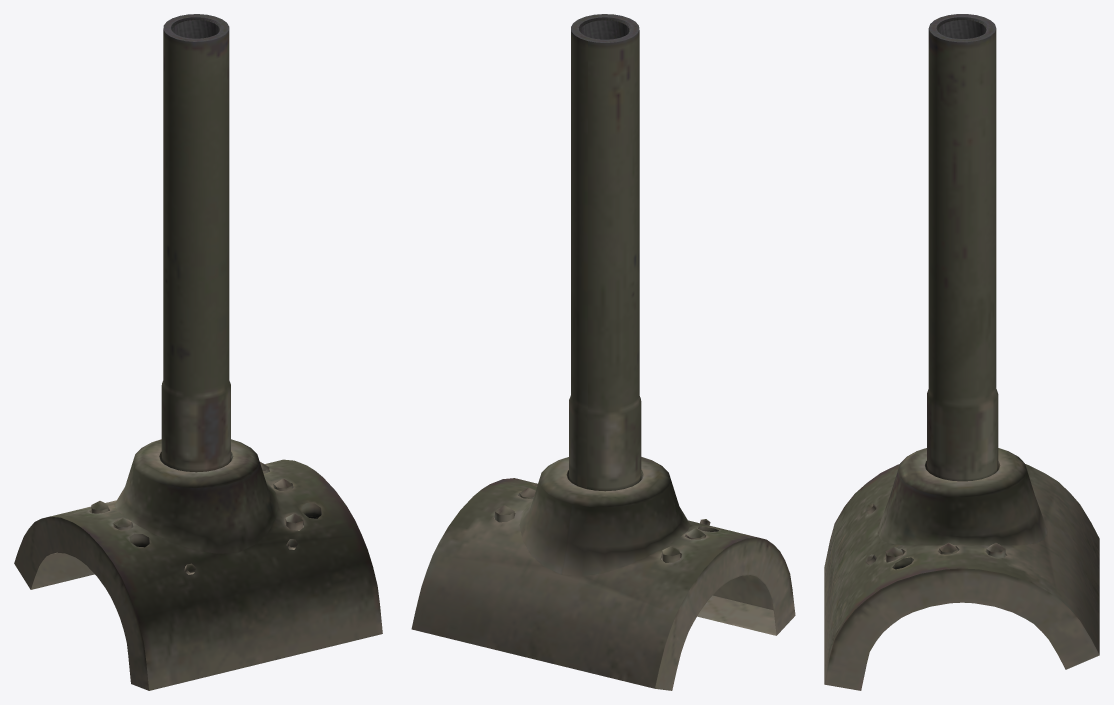
Rendered from Gun_07.glb.
The picture shows the model from 3 angles, left to right: view 1: azimuth 30°, elevation 25°; view 2: azimuth 150°, elevation 25°; view 3: azimuth 270°, elevation 25°; orthographic projection. The views are drawn at different scales.
Visible parts, largest first — view 1: set_0_group_0; view 2: set_0_group_0; view 3: set_0_group_0.
Boxes of the visible parts, x1,y1,x2,y2 form: set_0_group_0: (14, 14, 382, 690); set_0_group_0: (411, 14, 795, 690); set_0_group_0: (824, 14, 1099, 690).
Size of the model in its own units: 0.7026 by 1.7 by 0.7021.
Materials: 1 (1 with a texture image).
